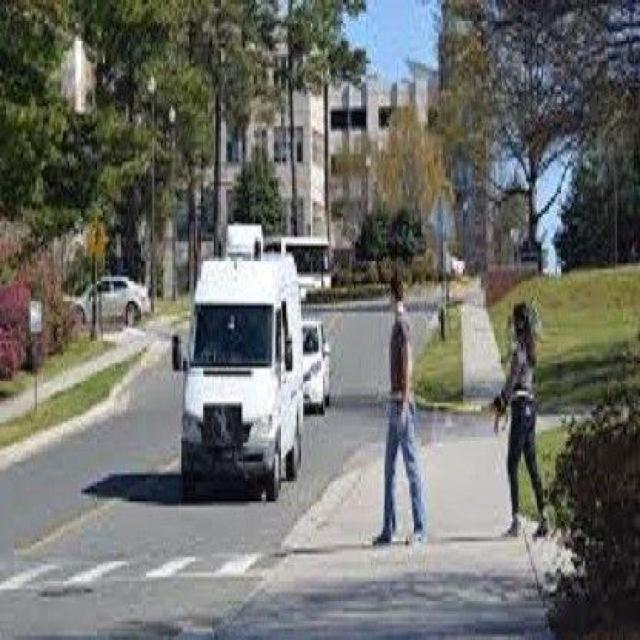Person: (484, 295, 556, 540), (374, 266, 428, 548)
